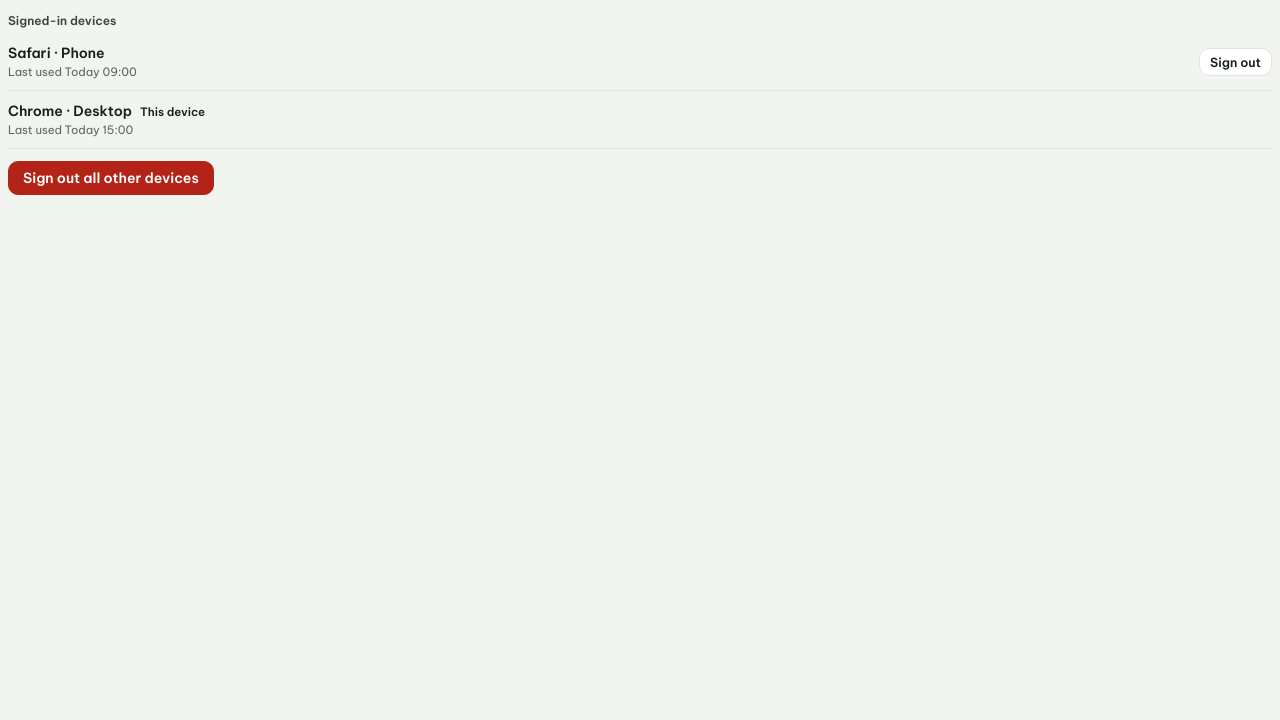
the confirmation for one device (R17) › a 404 with the id still in the list keeps the dialog and shows one toast
Click the button with aria-label "Sign out Safari": (1236, 62) [1199,48,1272,76]
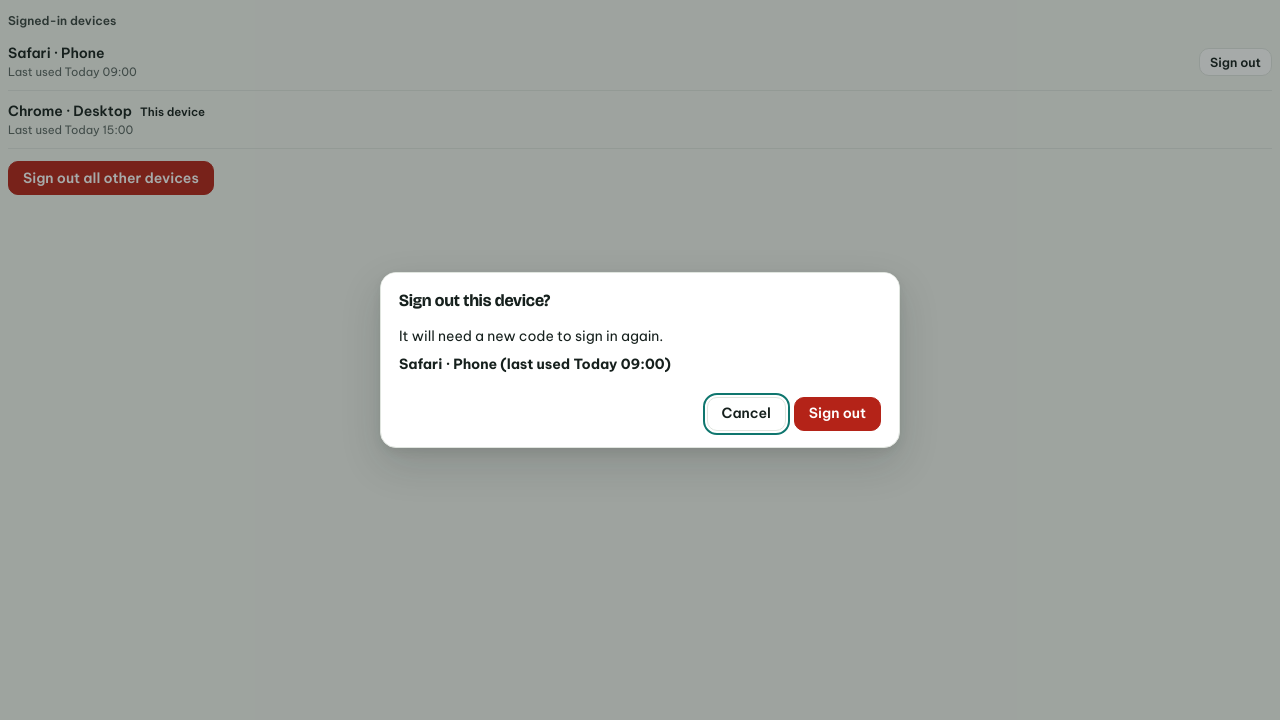
Click the button "Sign out": (837, 414) [794,397,881,431]
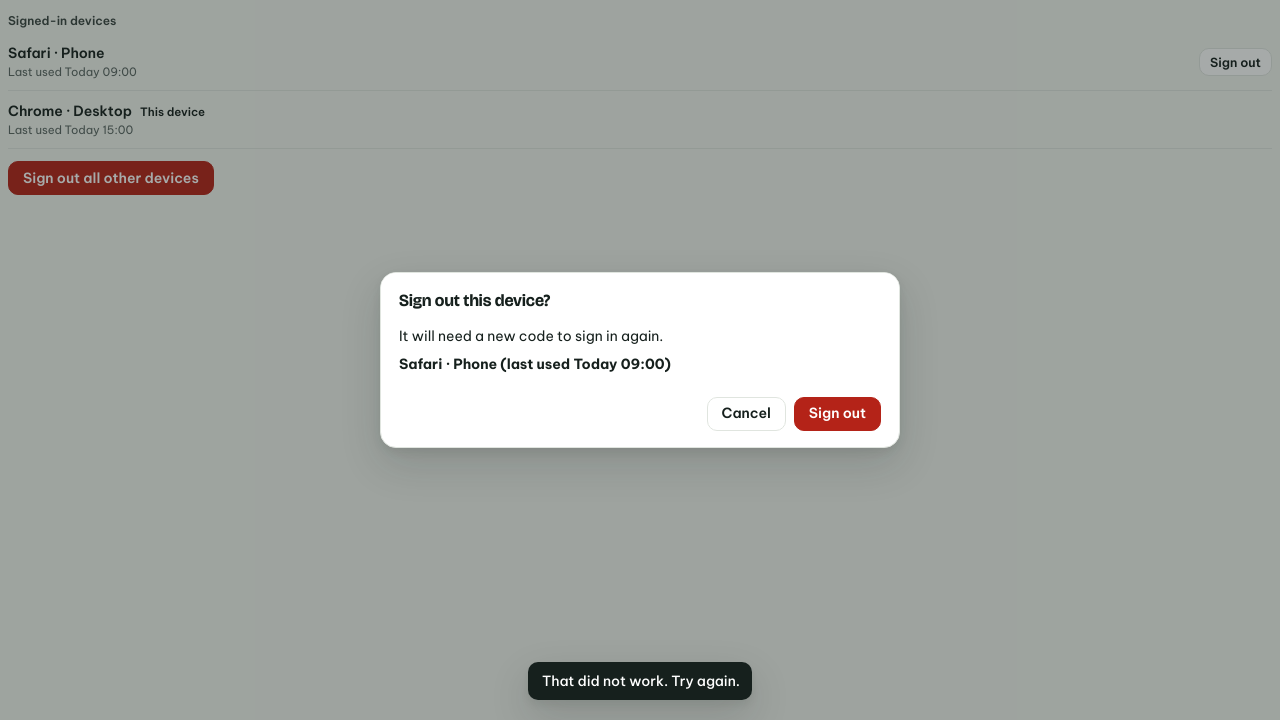
Now the dialog is shown, box [380,272,900,448]
Now the text "That did not work. Try again." is shown, box [542,671,740,691]
